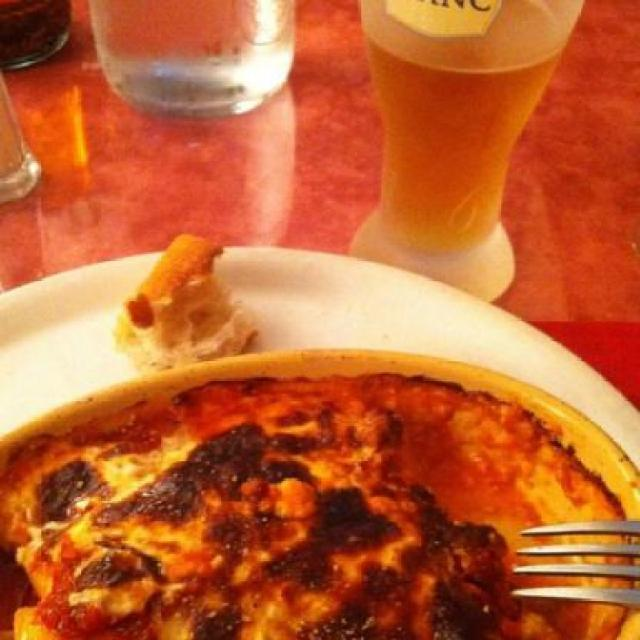Lasagna: (46, 436, 505, 638)
